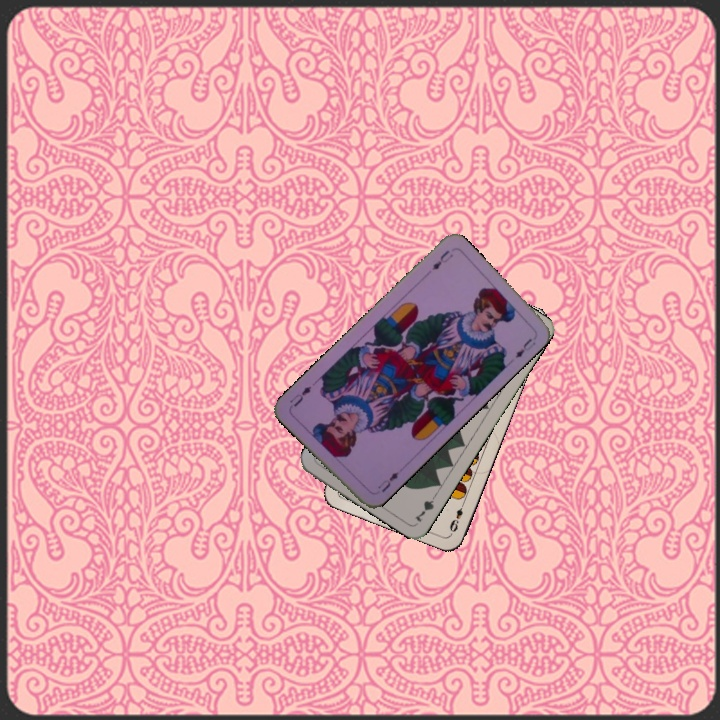E9: (445, 497, 468, 535)
EU: (428, 246, 456, 273), (374, 468, 401, 495)
G7: (410, 488, 440, 525)
